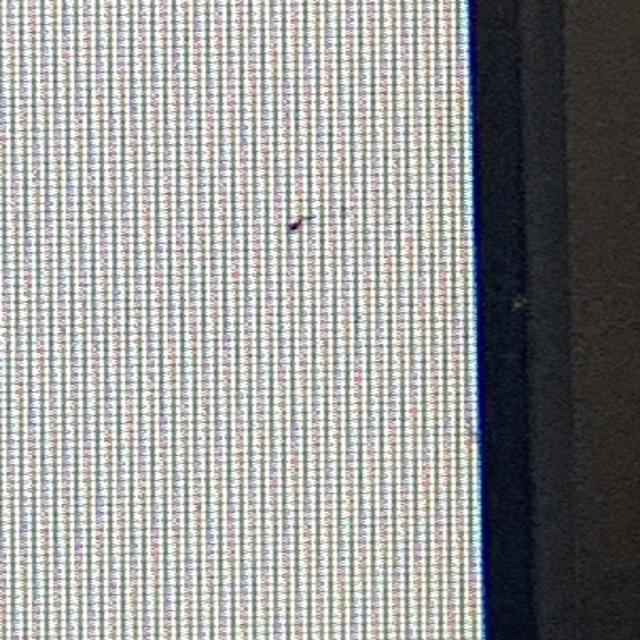Dead pixel: (286, 216, 303, 233)
